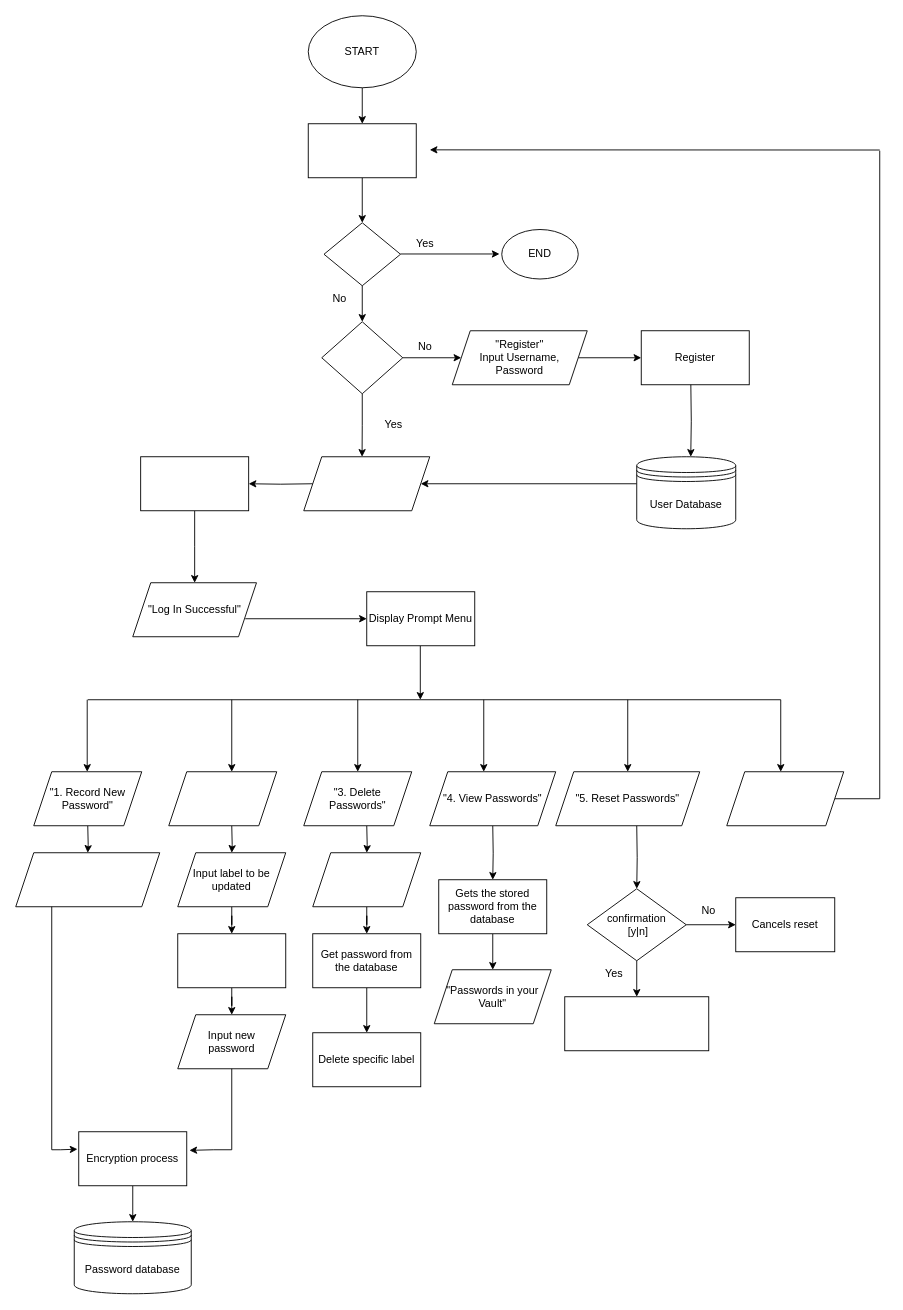
Some shapes in this 903 by 1310 pixel diagram are drawn without their labels. The centre of each missing label's shape, as x and y in pixels:
"2. Update Passwords": (x=222, y=798)
"6. Log Out": (x=785, y=798)
"Log In" Input Username, Password: (x=366, y=483)
Delete password for that label: (x=231, y=960)
Deletes all the password and label of the current user: (x=636, y=1023)
Display Main Menu: (x=361, y=150)
Have an account?: (x=362, y=357)
Input label to be deleted: (x=366, y=879)
Input password label & password: (x=87, y=879)
Log In: (x=194, y=483)
Want to exit?: (x=361, y=254)
